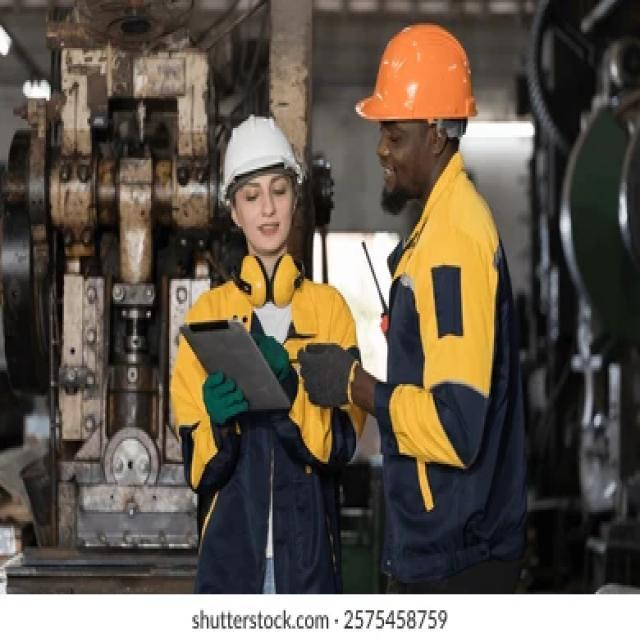gloved_hand: (296, 336, 362, 420), (199, 370, 251, 430), (249, 327, 288, 380)
